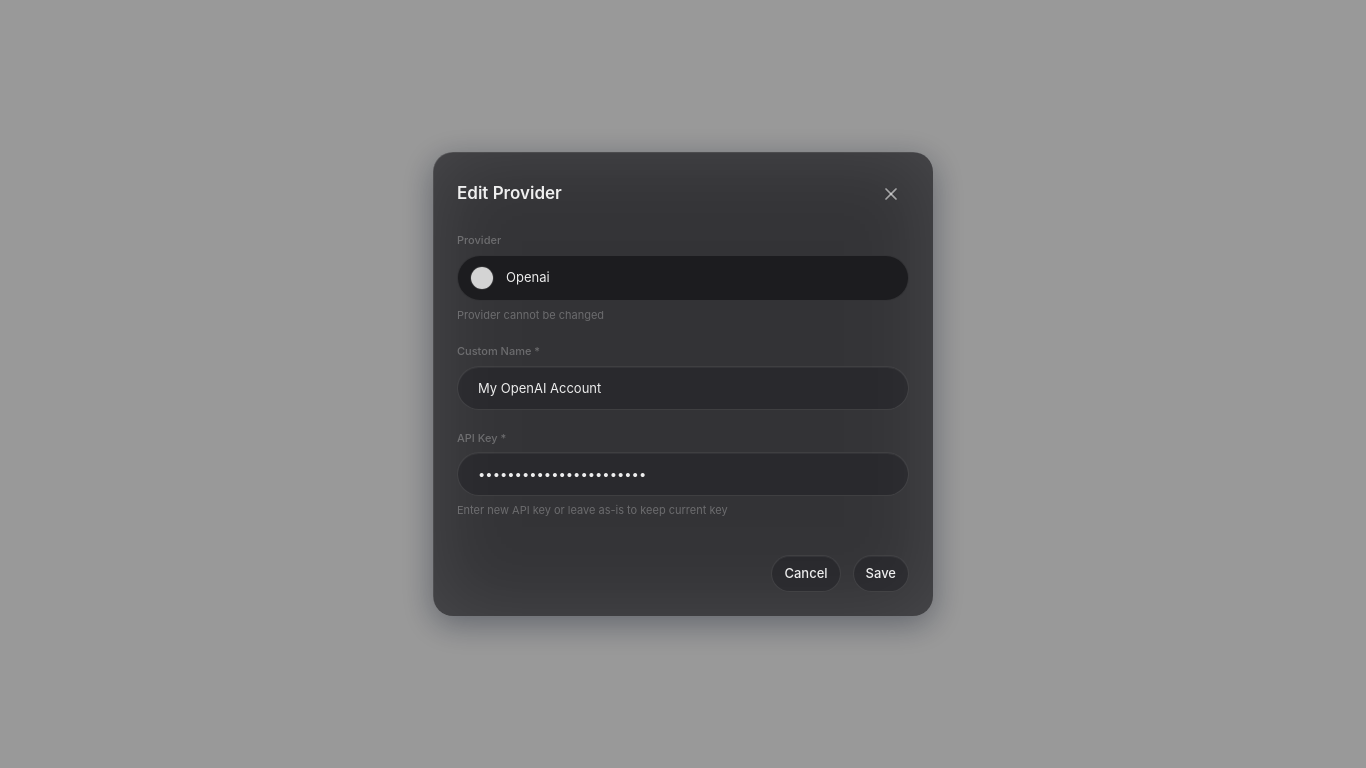
EditProviderModal › Save/Cancel handlers › should disable buttons while saving
// Click save
Click the button "Save" at (881, 573), box [853,554,909,592]
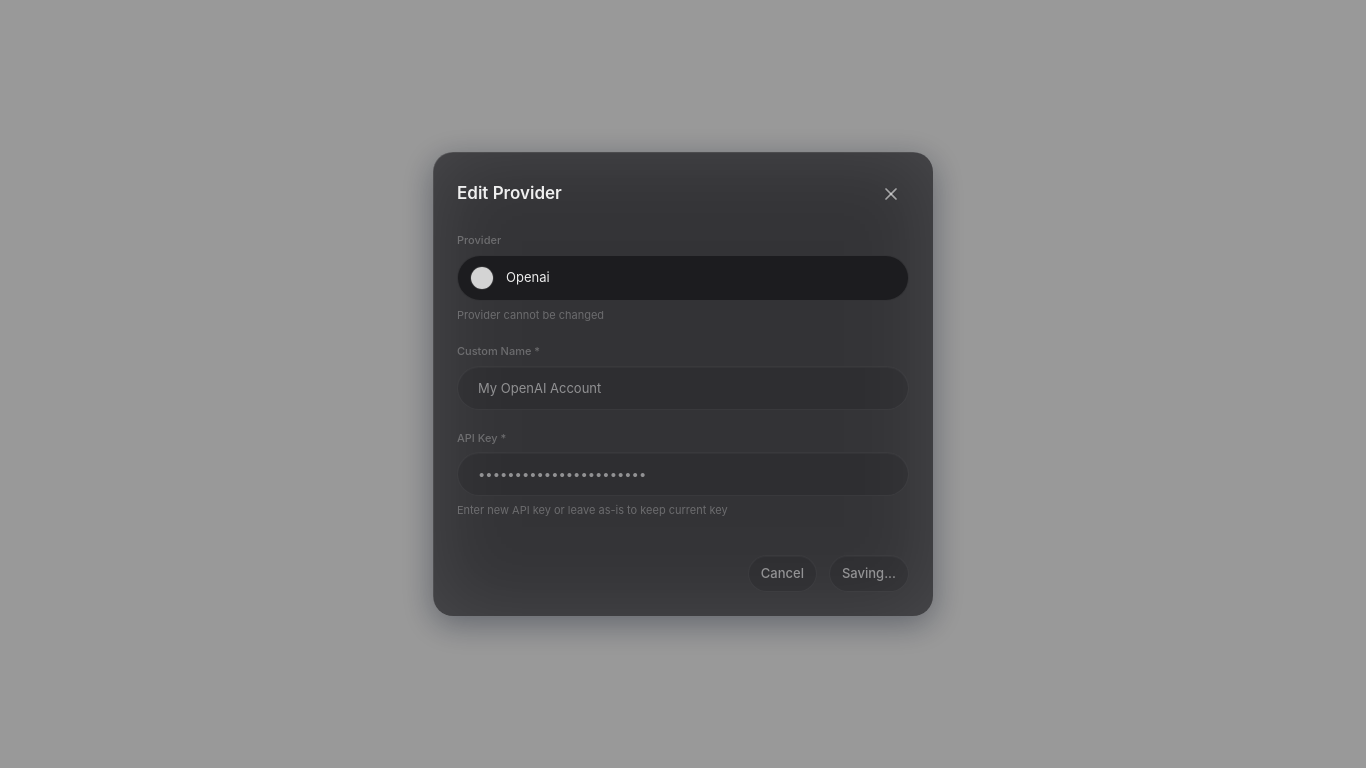
Check: the button "Saving..." is disabled, box [829,554,909,592]
Check: the button "Cancel" is disabled, box [748,554,817,592]
